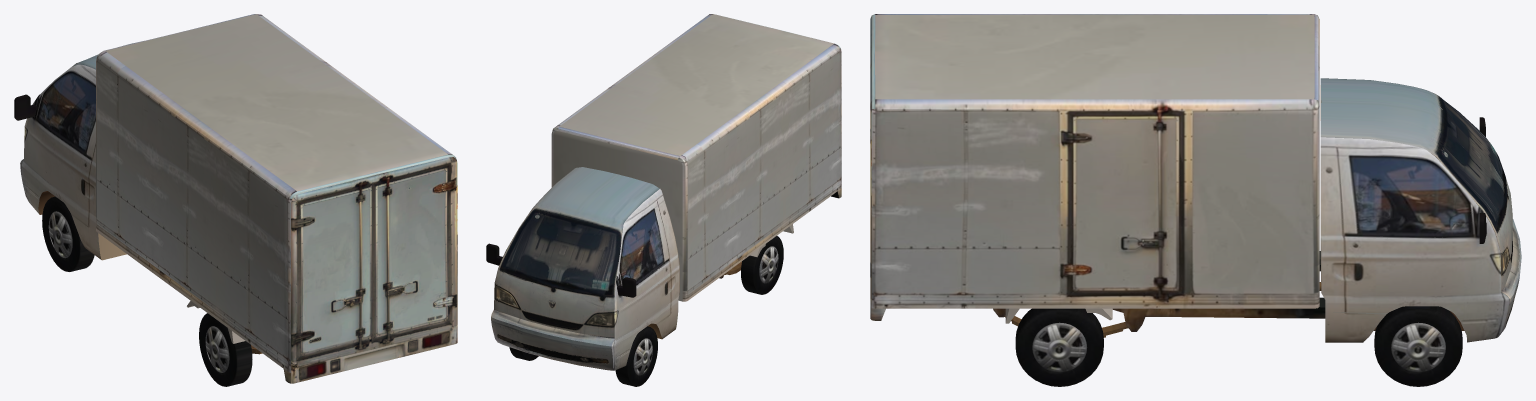
File: Truck.fbx
3 renders of one model, left to right at view 1: azimuth 30°, elevation 25°; view 2: azimuth 150°, elevation 25°; view 3: azimuth 270°, elevation 25°, orthographic. The views are drawn at different scales.
Visible parts, largest first — view 1: Cube.005; view 2: Cube.005; view 3: Cube.005.
Part boxes in pixels (x1,y1,x2,y2): Cube.005: (14,14,457,386); Cube.005: (486,14,841,386); Cube.005: (870,14,1521,386).
Bounding box in the file's own units: 165 × 214 × 437.
